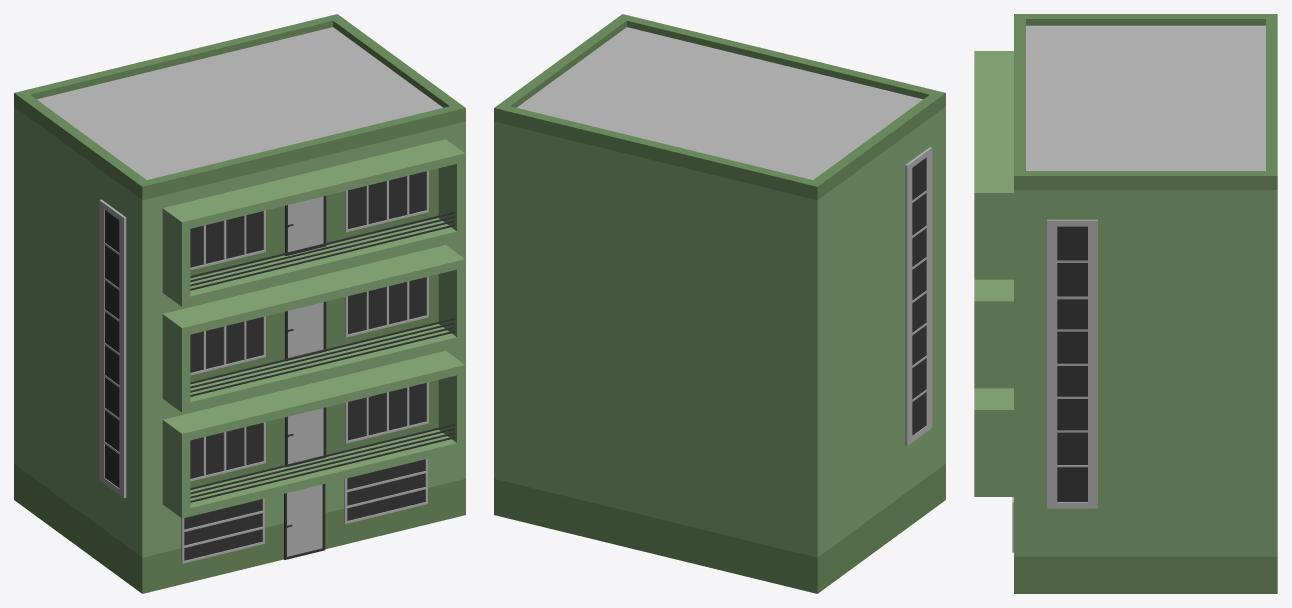
Rendered from building-residential-color01.glb.
3 renders of one model, left to right at view 1: azimuth 30°, elevation 25°; view 2: azimuth 150°, elevation 25°; view 3: azimuth 270°, elevation 25°, orthographic. The views are drawn at different scales.
Parts seen in each view (by area): view 1: Building_Residential_color01; view 2: Building_Residential_color01; view 3: Building_Residential_color01.
Boxes of the visible parts, left/top/right/bottom form: Building_Residential_color01: left=14, top=14, right=465, bottom=593; Building_Residential_color01: left=494, top=14, right=945, bottom=593; Building_Residential_color01: left=974, top=14, right=1277, bottom=593.
Size of the model in its own units: 16.23 by 19.24 by 12.66.
Materials: 1 (1 with a texture image).
